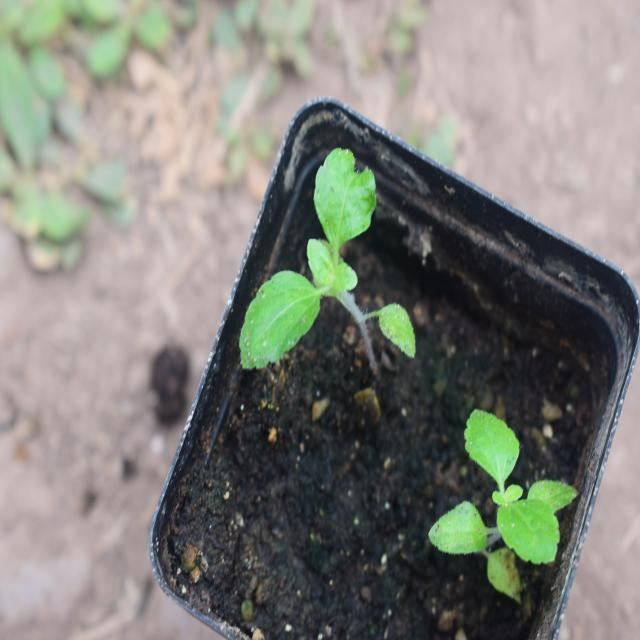billygoat_weed: (226, 142, 421, 408), (429, 398, 568, 584)
